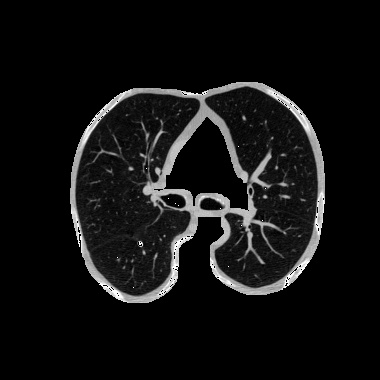PN: (137, 241, 143, 247)
